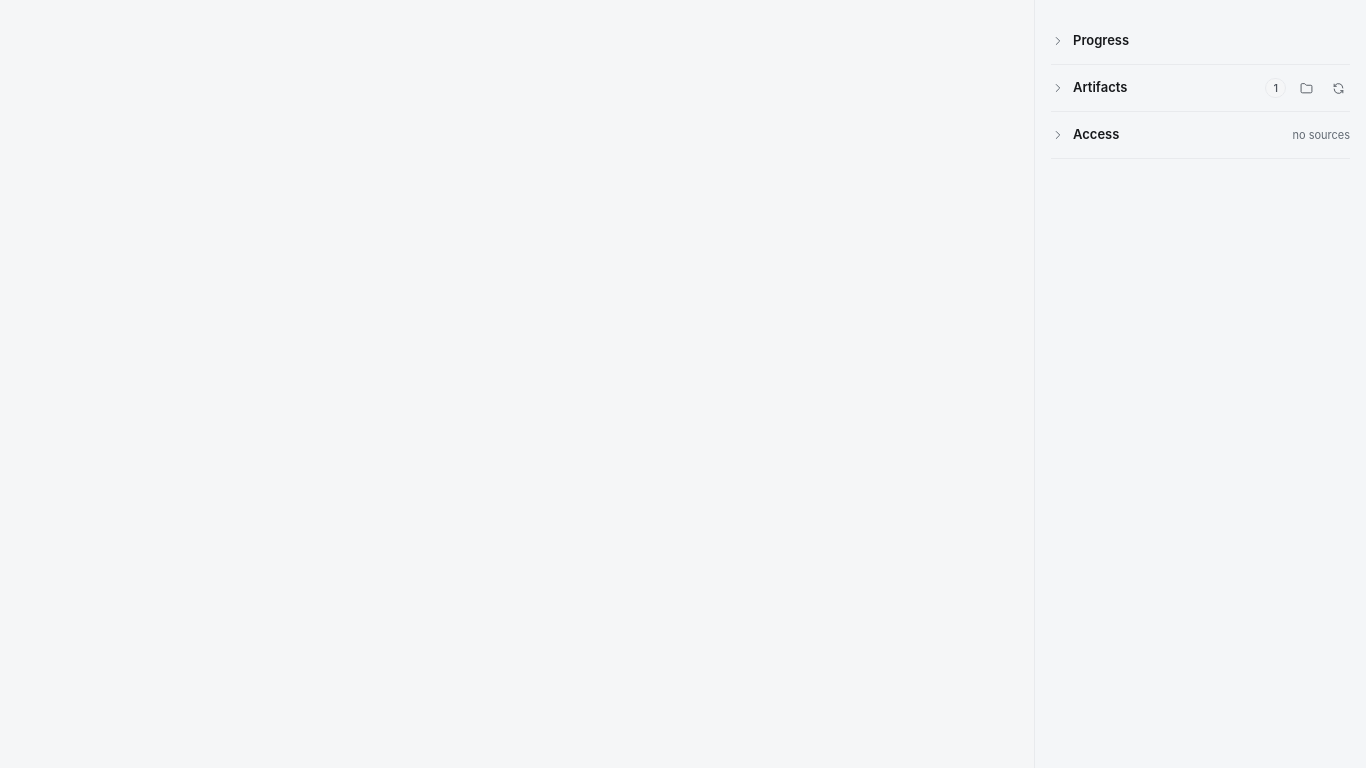
Scenario: RightRail preview notification › opens spreadsheet artifacts through the lazy safe spreadsheet boundary
The width and height of the screenshot is (1366, 768).
Click the button with test id "rail-toggle-artifacts" at (1168, 88), box [1051,78,1286,98]
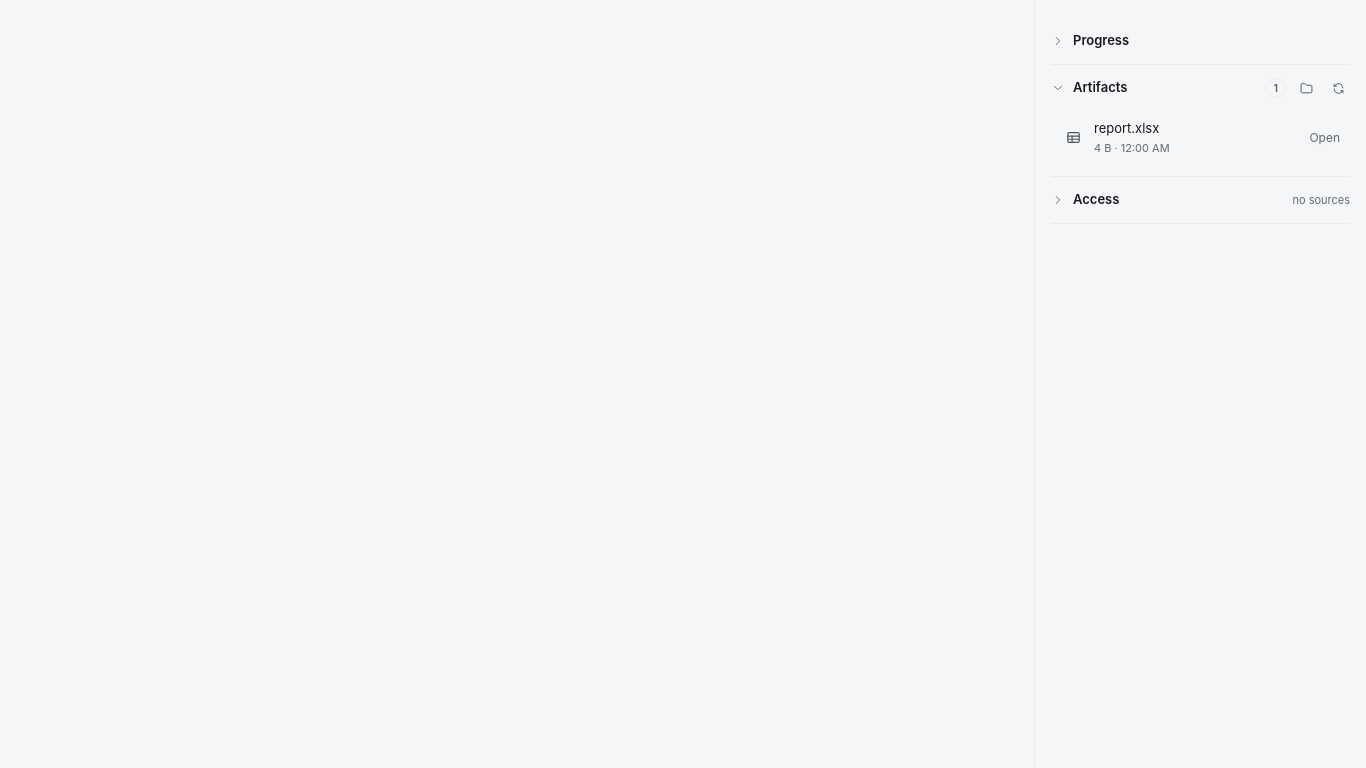
Click the button "report.xlsx 4 B · 12:00 AM Open" at (1127, 128), box [1051,110,1350,165]
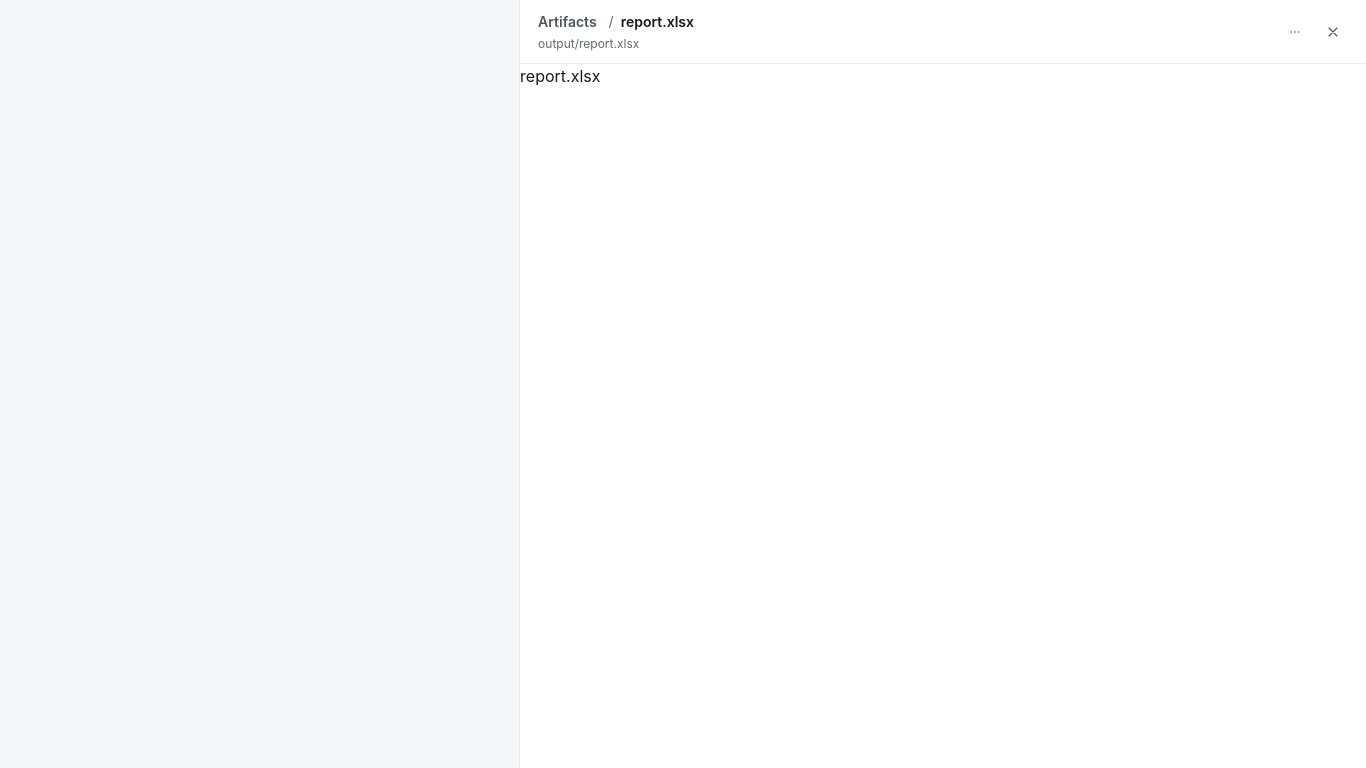
Result: the text with test id "spreadsheet-preview-boundary" reads "report.xlsx" at [520,66,600,86]
